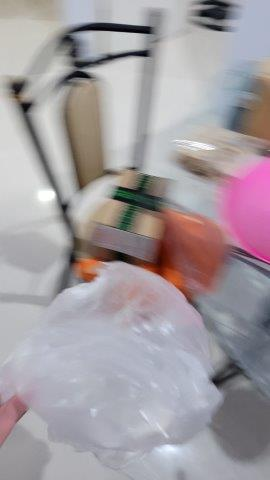plastik: (1, 260, 227, 462)
